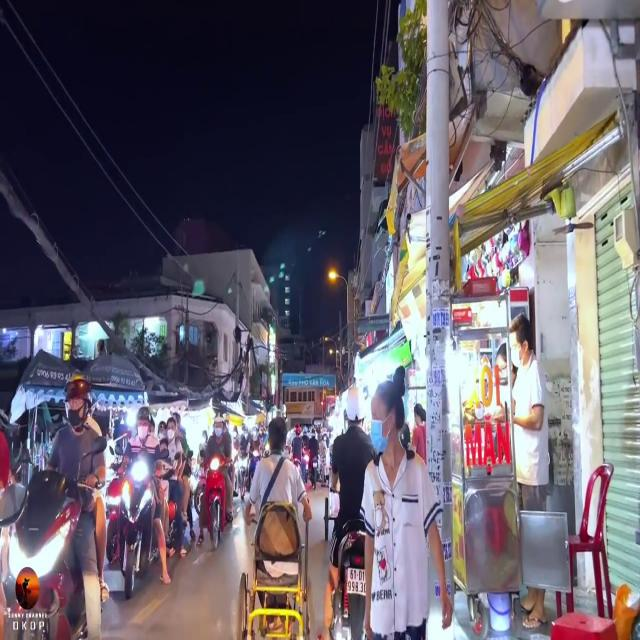bien_trang: (343, 564, 371, 597)
